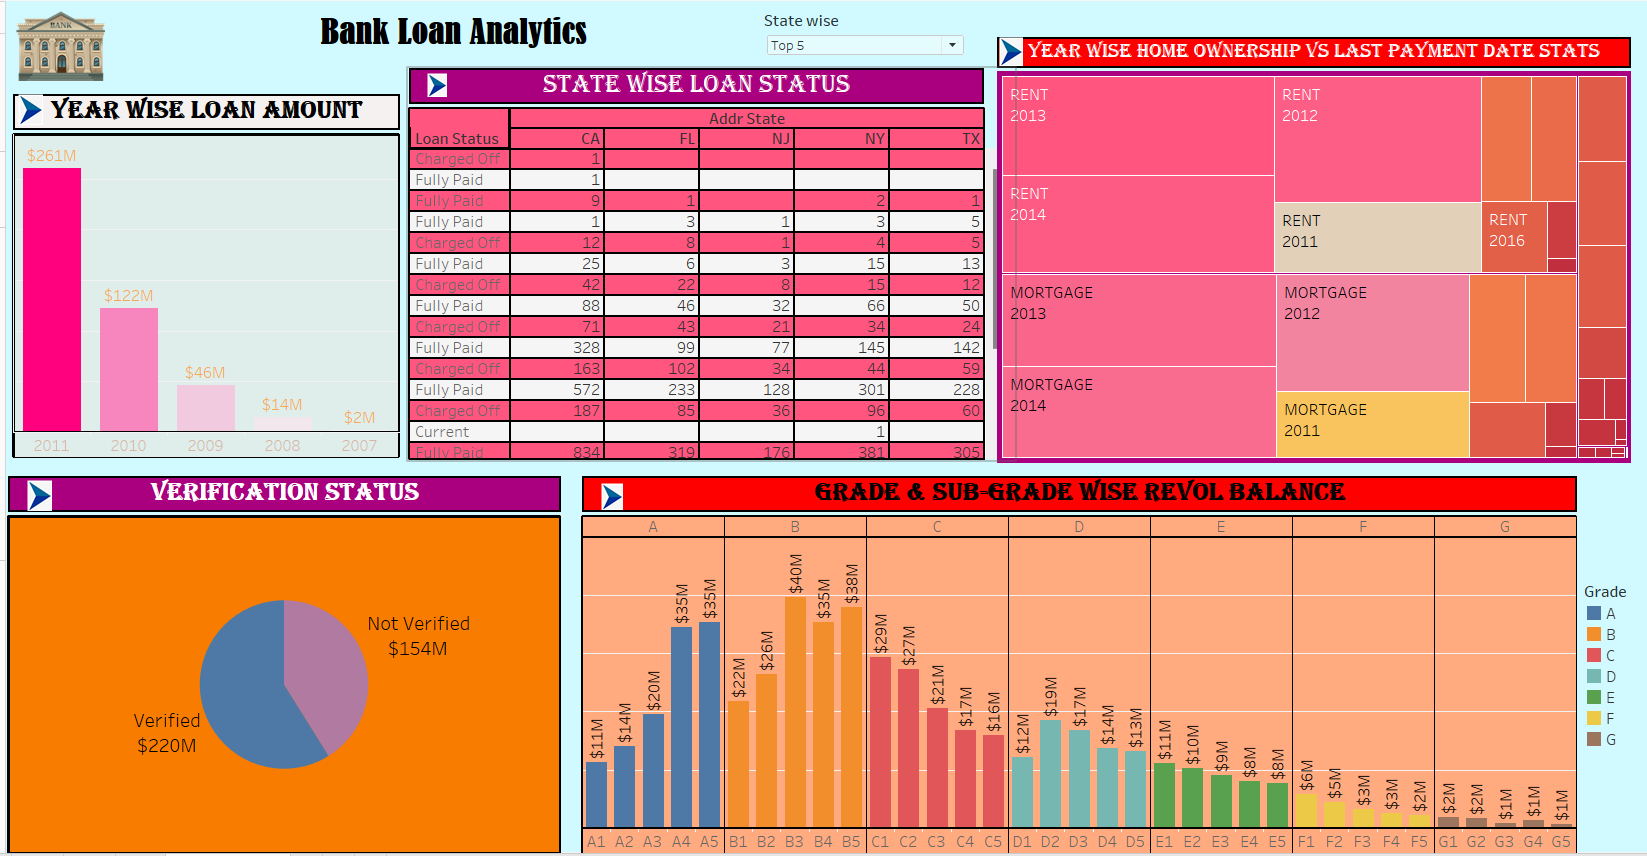

The dashboard page shown, as its layout file describes it:
{"tool":"tableau","page":{"name":"Dashboard 1","canvas":[1000,1000],"units":"permille","ordinal":0},"visuals":[{"type":"text","box":[111,8.2,318,55.2]},{"type":"parameter","param":"[Parameters].[Parameter 1]","box":[457.4,10.6,122.5,56.4]},{"type":"image","param":"Image/image_processing20200410-18222-1e9rit6.png","box":[6,11.8,79.7,82.3]},{"type":"dashboard-object","box":[599.3,40,14.5,38.8]},{"type":"worksheet","title":"kpi 5","mark":"Automatic","box":[598.1,42.3,382.6,527.6]},{"type":"worksheet","title":"Kpi 4","mark":"Automatic","rows":["last_credit_pull_d","loan_status"],"cols":["addr_state"],"box":[242.6,78.7,366.3,460.6]},{"type":"dashboard-object","box":[246.2,84.6,27.8,28.2]},{"type":"worksheet","title":"Kpi 1","mark":"Bar","rows":["loan_amnt"],"cols":["issue_d"],"box":[3.6,109.3,234.2,427.7]},{"type":"worksheet","title":"Kpi3 ","mark":"Pie","box":[0.6,558.2,334.3,444.2]},{"type":"worksheet","title":"Kpi 2","mark":"Automatic","rows":["revol_bal"],"cols":["grade","sub_grade"],"box":[347,558.2,601.1,444.2]},{"type":"dashboard-object","box":[6.6,562.9,27.2,36.4]},{"type":"dashboard-object","box":[347,566.4,37.4,31.7]},{"type":"legend","title":"Kpi 2","param":"[federated.02udopj08ljlcj15ivv0v0tvr4bw].[none:grade:nk]","box":[952.3,682,39.3,290.4]}]}

Visuals, with their boxes on the dashboard's canvas, which has no fixed pixel size, in thousandths of its width and height (x1, y1, x2, y2). These are canvas units, not pixel positions in the 1647x856 screenshot, which may show the page scaled, cropped or inside an application window:
text: [111,8,429,63]
parameter: [457,11,580,67]
image: [6,12,86,94]
dashboard-object: [599,40,614,79]
"kpi 5" worksheet: [598,42,981,570]
"Kpi 4" worksheet: [243,79,609,539]
dashboard-object: [246,85,274,113]
"Kpi 1" worksheet (Bar marks): [4,109,238,537]
"Kpi3 " worksheet (Pie marks): [1,558,335,1002]
"Kpi 2" worksheet: [347,558,948,1002]
dashboard-object: [7,563,34,599]
dashboard-object: [347,566,384,598]
"Kpi 2" legend: [952,682,992,972]
